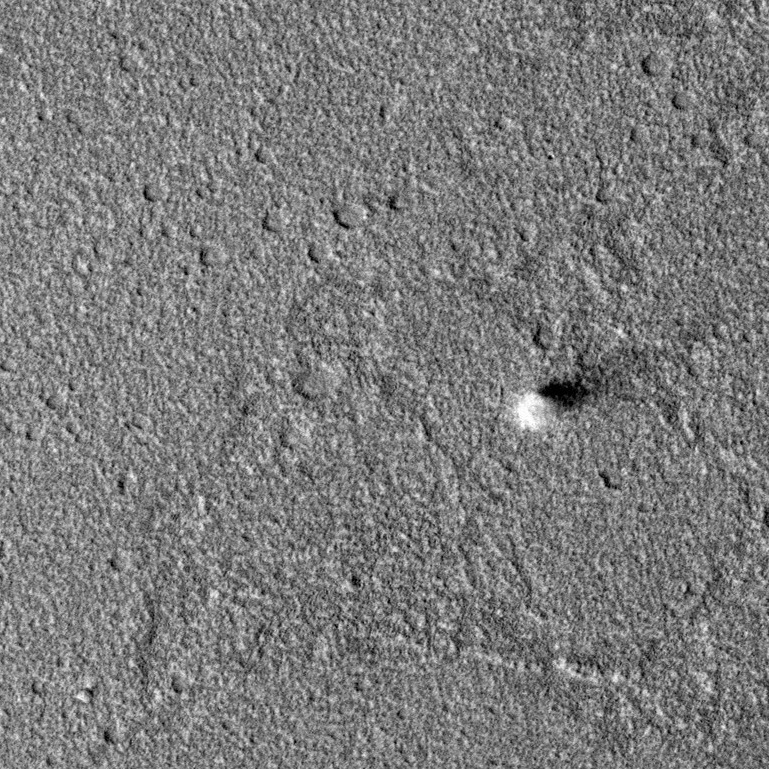dust_devil: (506, 374, 601, 437)
